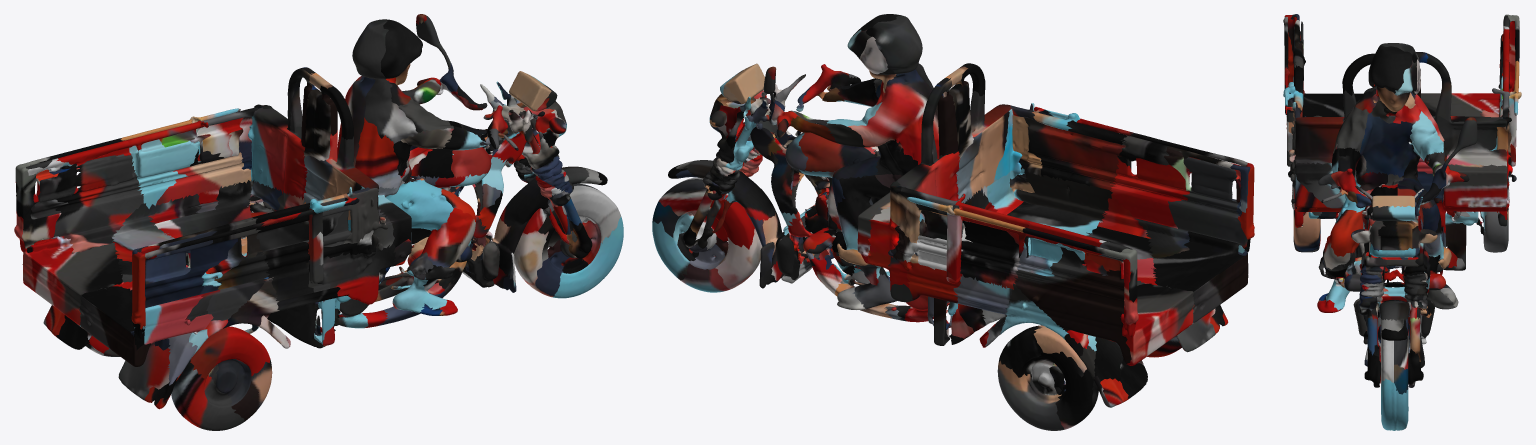
The picture shows the model from 3 angles, left to right: view 1: azimuth 30°, elevation 25°; view 2: azimuth 150°, elevation 25°; view 3: azimuth 270°, elevation 25°; orthographic projection. The views are drawn at different scales.
Visible parts, largest first — view 1: tripo_node_5424a763-33ac-4214-a5b7-e9d492df8def; view 2: tripo_node_5424a763-33ac-4214-a5b7-e9d492df8def; view 3: tripo_node_5424a763-33ac-4214-a5b7-e9d492df8def.
Boxes of the visible parts, box(x1,y1,x2,y2) form: tripo_node_5424a763-33ac-4214-a5b7-e9d492df8def: box(14, 14, 623, 430); tripo_node_5424a763-33ac-4214-a5b7-e9d492df8def: box(652, 14, 1254, 430); tripo_node_5424a763-33ac-4214-a5b7-e9d492df8def: box(1283, 14, 1521, 430).
Bounding box in the file's own units: 100 × 55.76 × 40.6.
